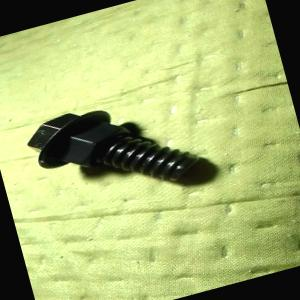parafuso: (20, 76, 222, 225)
